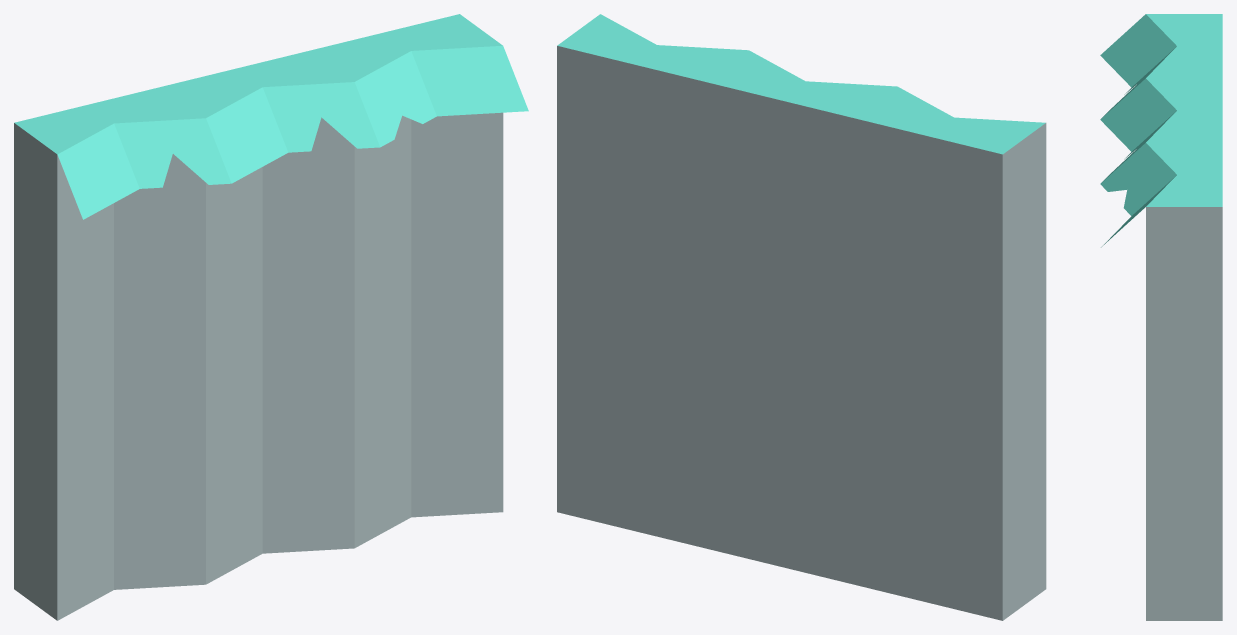
Rendered from cliff_top_stone.gltf.
3 views of the same model, side by side, from view 1: azimuth 30°, elevation 25°; view 2: azimuth 150°, elevation 25°; view 3: azimuth 270°, elevation 25° (orthographic). The views are drawn at different scales.
Parts seen in each view (by area): view 1: cliff_top_stone; view 2: cliff_top_stone; view 3: cliff_top_stone.
Boxes of the visible parts, bbox=[...] form: cliff_top_stone: bbox=[14, 14, 528, 620]; cliff_top_stone: bbox=[557, 14, 1046, 620]; cliff_top_stone: bbox=[1100, 14, 1222, 620].
Bounding box in the file's own units: 1 × 1 × 0.2685.
